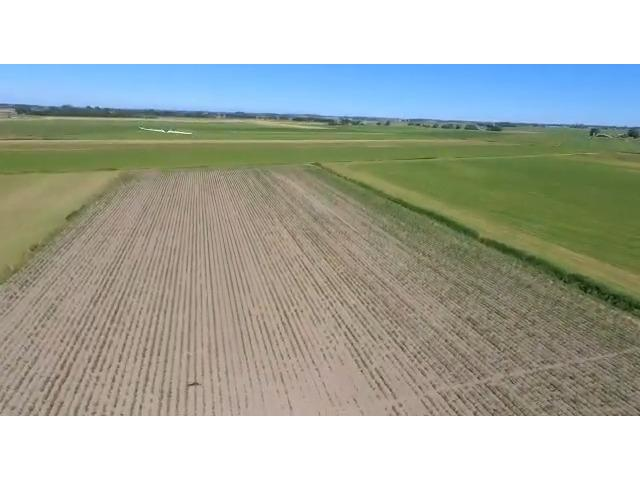Anti-Drone: (128, 111, 196, 145)
